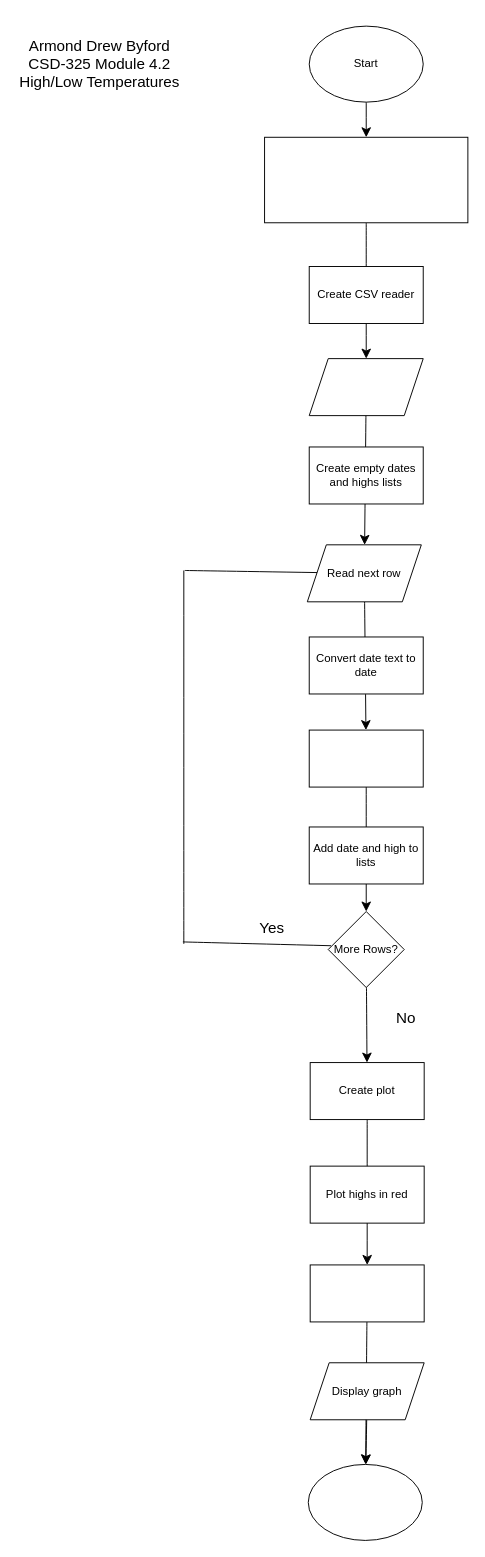
The diagram is 485 pixels wide and 1557 high, and some of its shapes have lost their labels. The shapes that lost their labels are listed below. From the top down, each one's centre as x and y in pixels, then its label:
At pixel 366 179: "Open sitka_weather_2018_simple.csv".
At pixel 365 387: "Read header row".
At pixel 365 758: "Get high temperature".
At pixel 366 1293: "Format title, labels, and dates".
At pixel 364 1501: "End".
